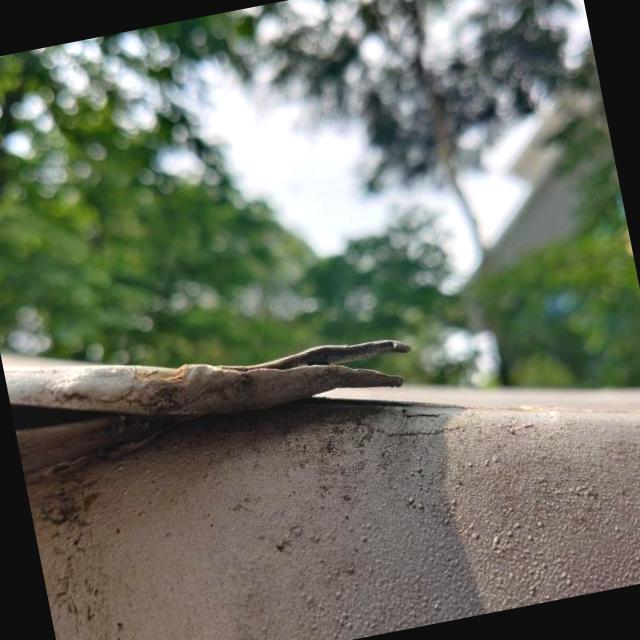crack: (206, 294, 444, 460)
